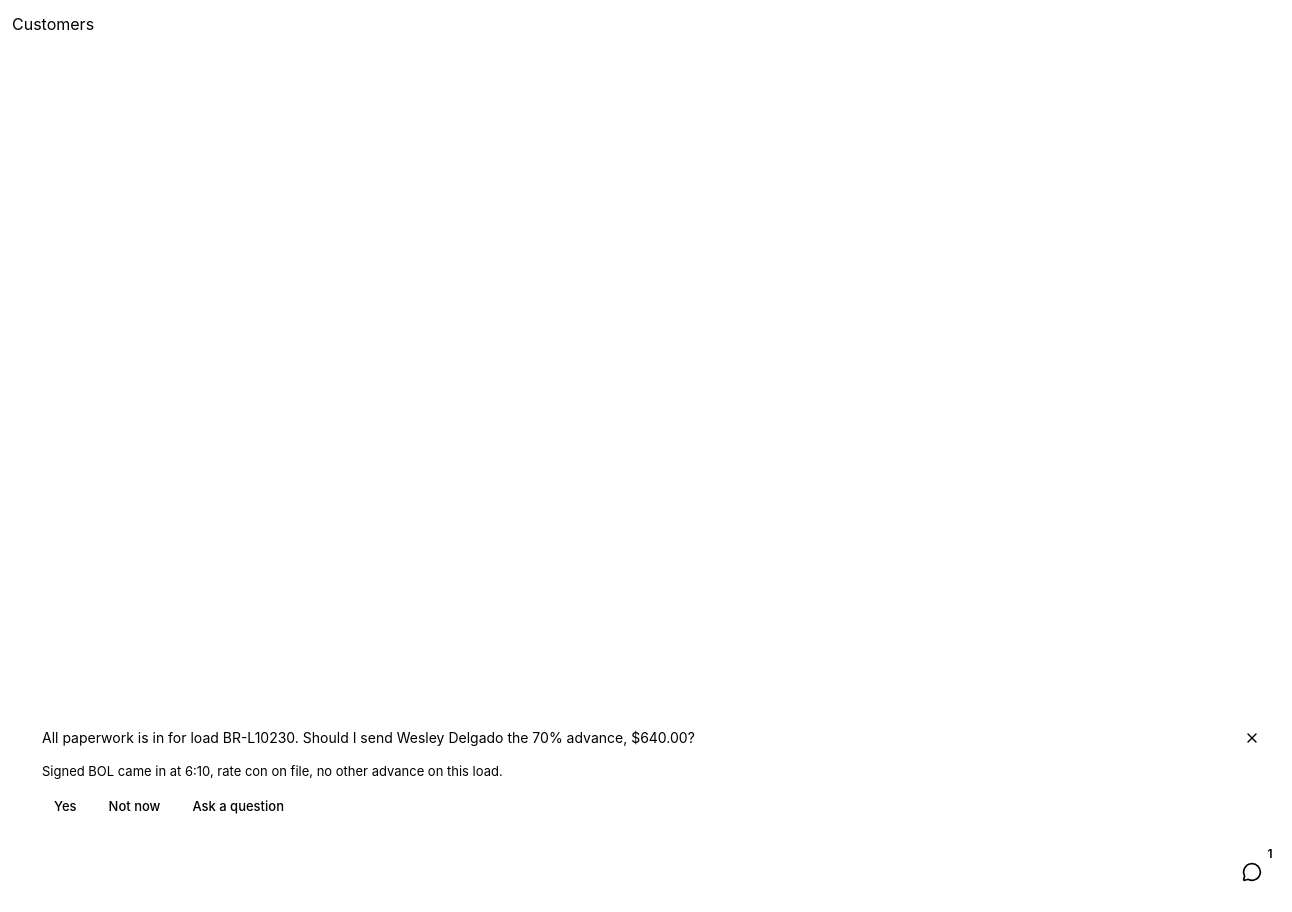
Test: the agent's questions on the launcher › keeps the known words for a refusal with a category
The width and height of the screenshot is (1292, 912).
Click the button "Yes". click: click(65, 806)
box: [42,790,89,822]
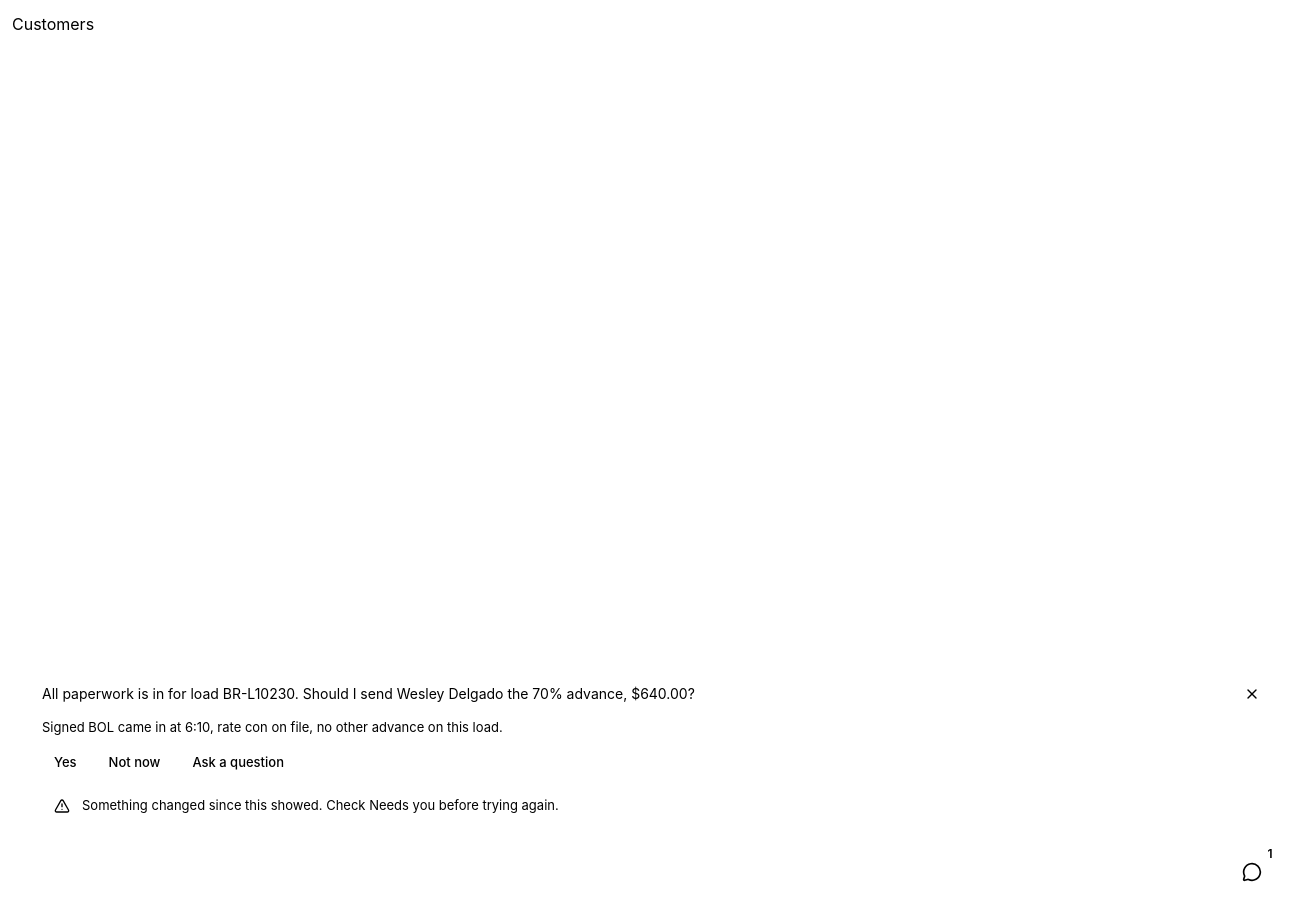
Now the text "Something changed since this showed. Check Needs you before trying again." is shown, box [82,797,559,813]
